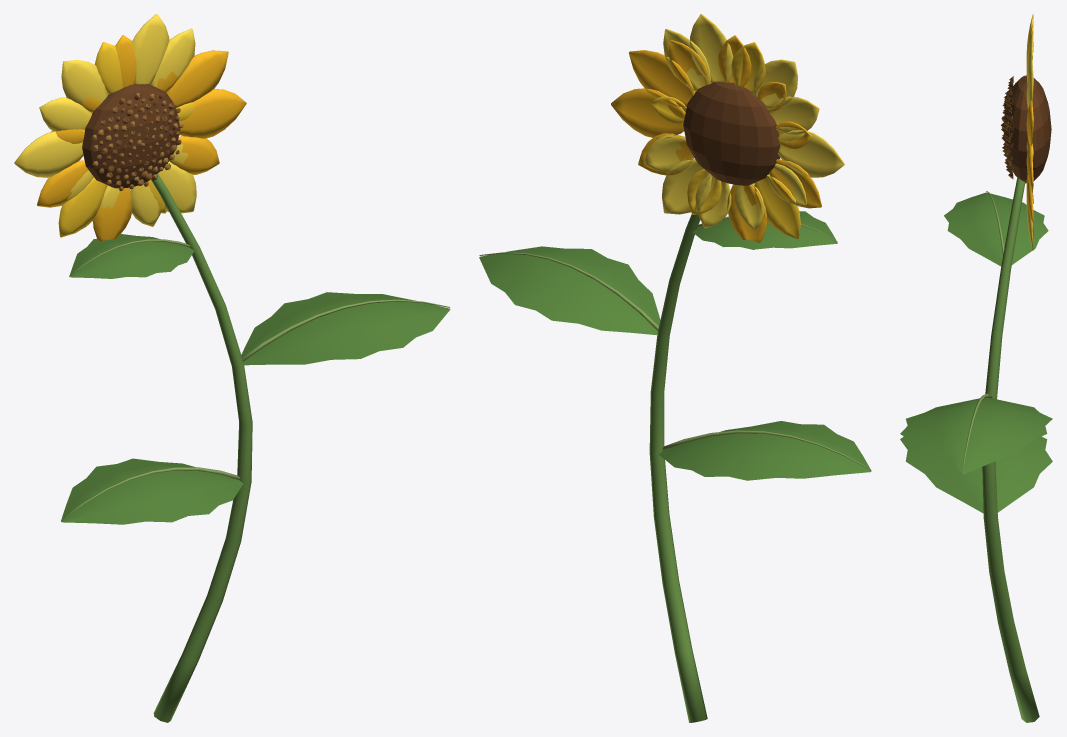
Rendered from sunflower-v2-bloom-3-1.glb.
3 renders of one model, left to right at view 1: azimuth 30°, elevation 25°; view 2: azimuth 150°, elevation 25°; view 3: azimuth 270°, elevation 25°, orthographic. The views are drawn at different scales.
Parts seen in each view (by area): view 1: Curved tapered stem; view 2: Curved tapered stem; view 3: Curved tapered stem.
Boxes of the visible parts, x1,y1,x2,y2 form: Curved tapered stem: (14, 14, 450, 722); Curved tapered stem: (479, 14, 871, 722); Curved tapered stem: (900, 14, 1052, 722).
Size of the model in its own units: 0.4258 by 0.7212 by 0.1462.
